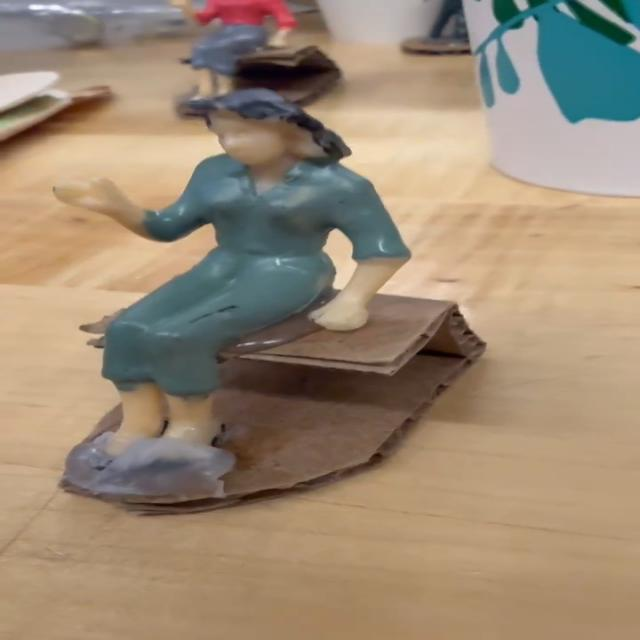Authorized: (0, 71, 518, 568)
